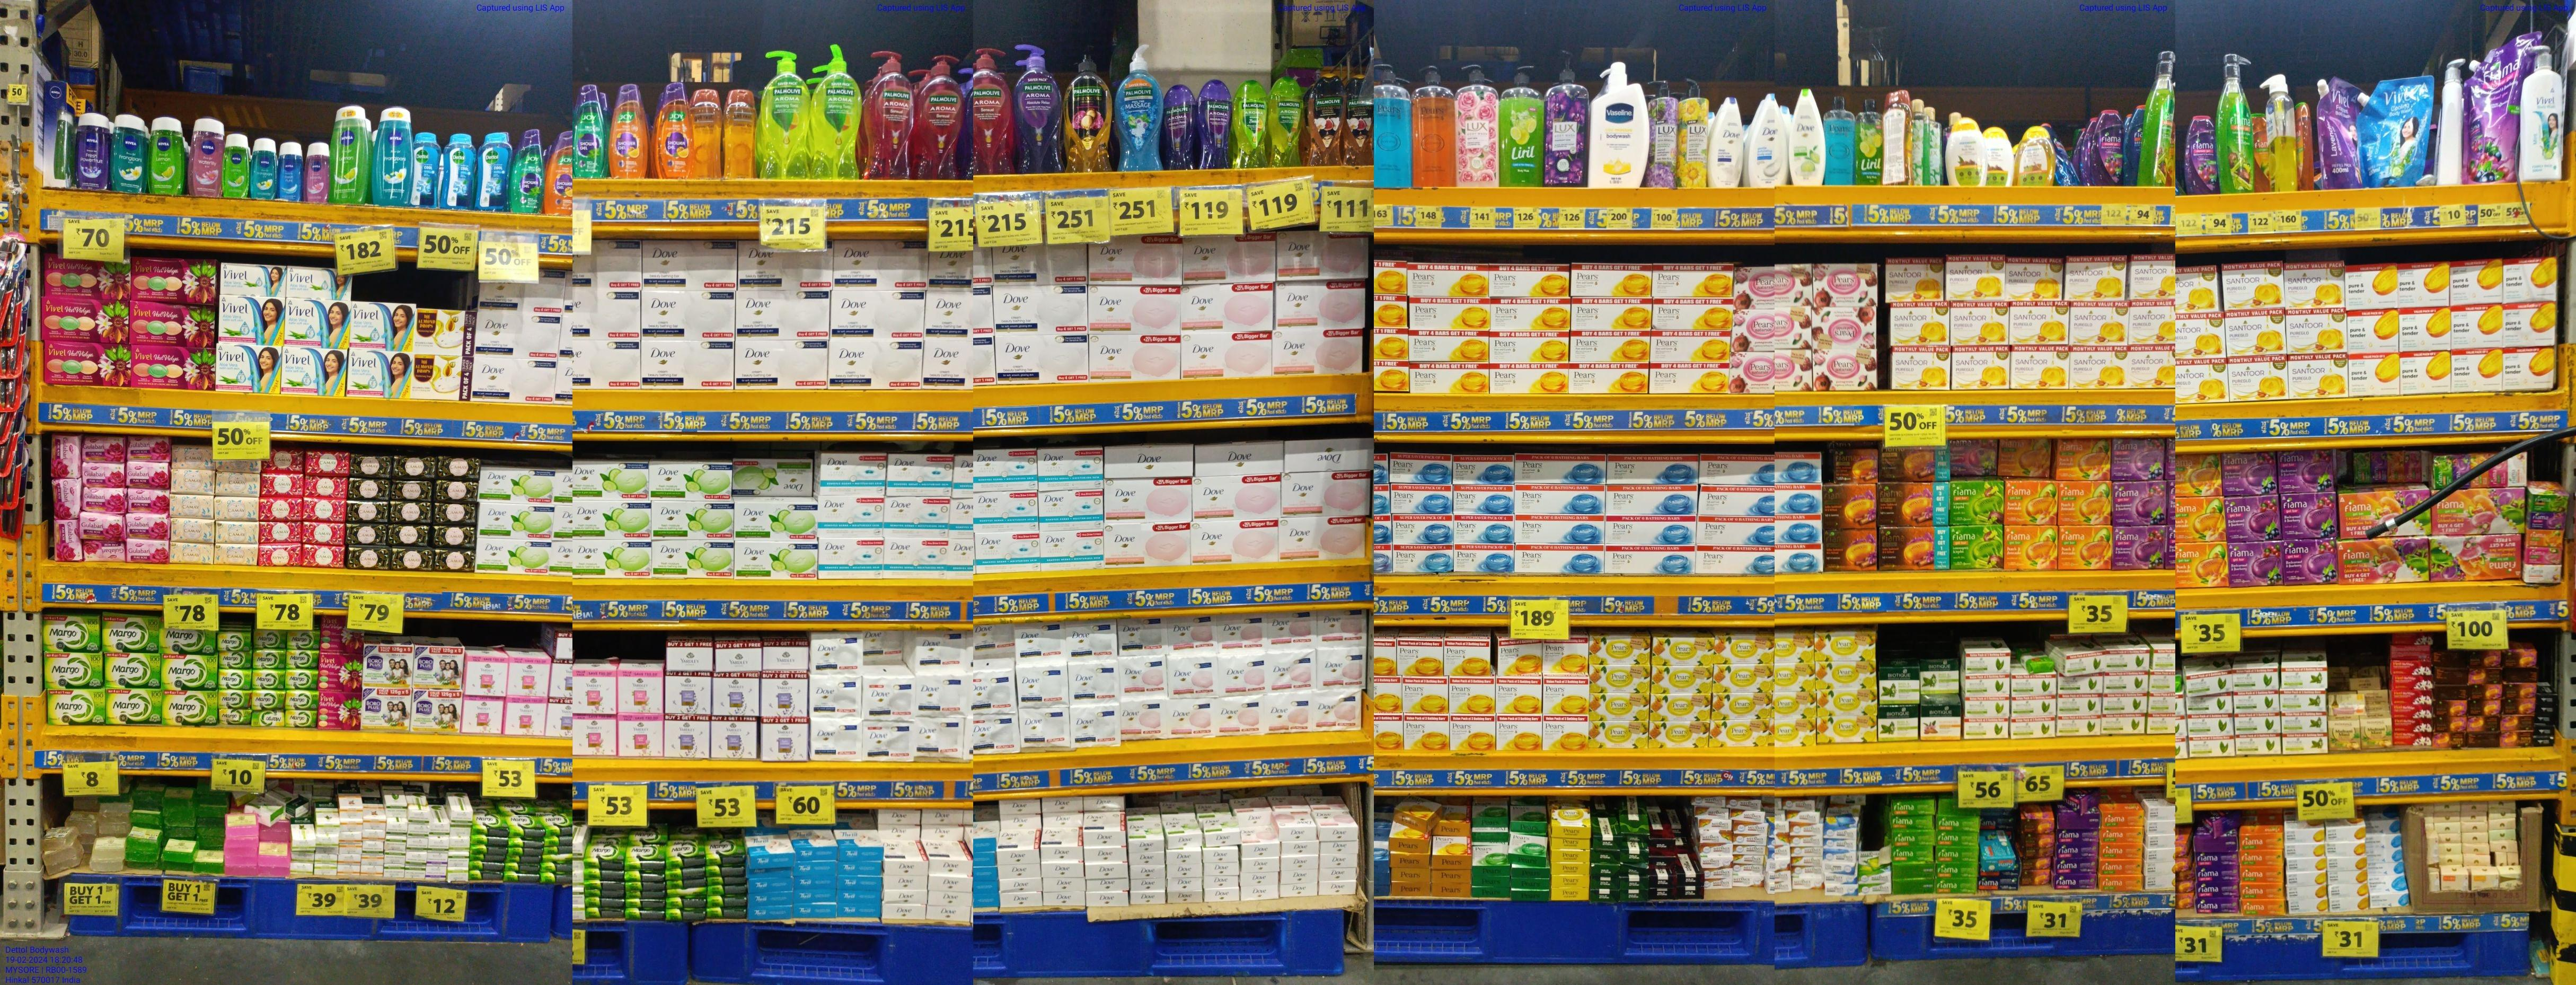Dettol_Bodywash_Cool: (478, 130, 513, 210), (442, 132, 476, 209), (416, 128, 440, 206)
Dove_Deep_Moisture_Body_Wash_250ML: (1709, 95, 1743, 189)
Dove_Gentle_Exfoliating_Body_Wash_250ML: (1748, 92, 1787, 187)
Dove_Refreshing_Body_Wash_250ML: (1789, 87, 1825, 186)
Get_Real_Shower_Gel_Moisturising_Glycerin_300ML: (724, 87, 754, 179), (695, 87, 723, 179)
Joy_Shower_Gel_Mandarin_and_Lemongrass_250ML: (655, 82, 693, 179), (609, 84, 647, 179), (547, 123, 572, 215)
Joy_Shower_Gel_Mint_and_Eucalyptus_250ML: (573, 84, 605, 179), (514, 127, 544, 212)
Liril_Lime_and_Tea_Tree_Oil_Body_Wash_250ML: (1858, 94, 1883, 183)
Nivea_Shower_Gel_Frangipani_and_Oil_250ML: (373, 105, 414, 206), (112, 113, 146, 192)
Nivea_Shower_Gel_Fresh_Powerfruit_250ML: (77, 113, 108, 189)
Nivea_Shower_Gel_Lemon_and_Oil_250ML: (330, 105, 370, 202), (148, 117, 184, 194)
Nivea_Shower_Gel_Waterlily_and_Oil_250ML: (189, 117, 223, 197)
Palmolive_Aroma_Morning_Tonic_Shower_Gel_250ML: (1268, 76, 1303, 169)
Palmolive_Aroma_Relax_250ML: (1196, 77, 1232, 169), (1163, 82, 1193, 171)
Palmolive_Luminous_Oils_With_White_Orchid_Shower_Gel_250ML: (1308, 74, 1344, 166), (1345, 72, 1373, 166)
Pears_Pure_Glycerin_and_Mint_Extracts_Body_Wash_250ML: (1827, 94, 1856, 184)
